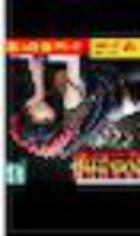ImgView: (1, 1, 139, 235)
